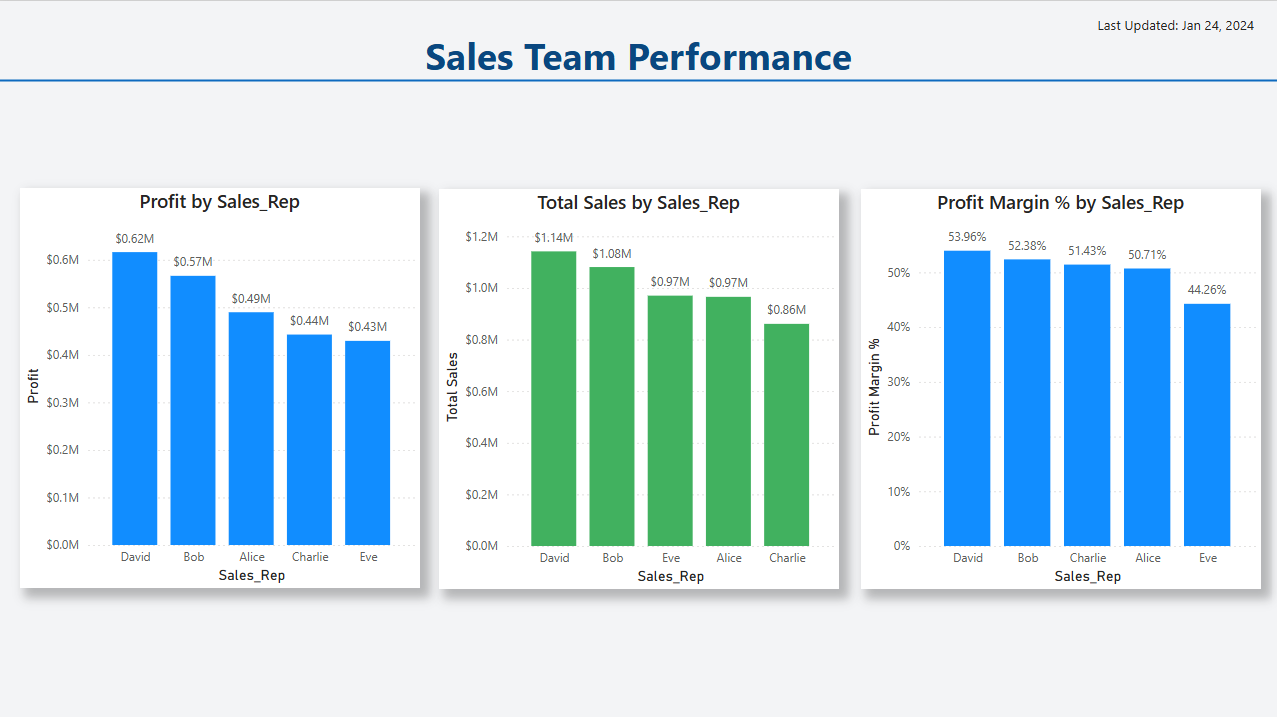

The page's visual inventory and layout, read from the dashboard file:
{"tool":"powerbi","page":{"name":"Sales Team Performance","canvas":[1280,720],"ordinal":2},"visuals":[{"type":"textbox","box":[343.2,23.5,594.1,67.9],"z":0},{"type":"shape","box":[0,38.1,1280.4,83.3],"z":1000},{"type":"textbox","box":[1094.2,9.8,179.1,28.4],"z":2000},{"type":"columnChart","fields":{"Y":["DateTable.Profit"],"Category":["sales_data.Sales_Rep"]},"box":[21.3,187.1,399.9,399.9],"z":3000},{"type":"columnChart","fields":{"Category":["sales_data.Sales_Rep"],"Y":["DateTable.Total Sales"]},"box":[439.8,188,399.9,399.9],"z":4000},{"type":"columnChart","fields":{"Category":["sales_data.Sales_Rep"],"Y":["DateTable.Profit Margin %"]},"box":[862.3,187.9,399.7,399.7],"z":5000}]}

Visuals, with their boxes in screenshot pixels (x1, y1, x2, y2), scaled from the page's 1280x720 canvas onto the 1277x717 screenshot:
textbox: <bbox>342, 23, 935, 91</bbox>
shape: <bbox>0, 38, 1276, 121</bbox>
textbox: <bbox>1092, 10, 1270, 38</bbox>
columnChart - DateTable.Profit x sales_data.Sales_Rep: <bbox>21, 186, 420, 585</bbox>
columnChart - sales_data.Sales_Rep x DateTable.Total Sales: <bbox>439, 187, 838, 585</bbox>
columnChart - sales_data.Sales_Rep x DateTable.Profit Margin %: <bbox>860, 187, 1259, 585</bbox>
